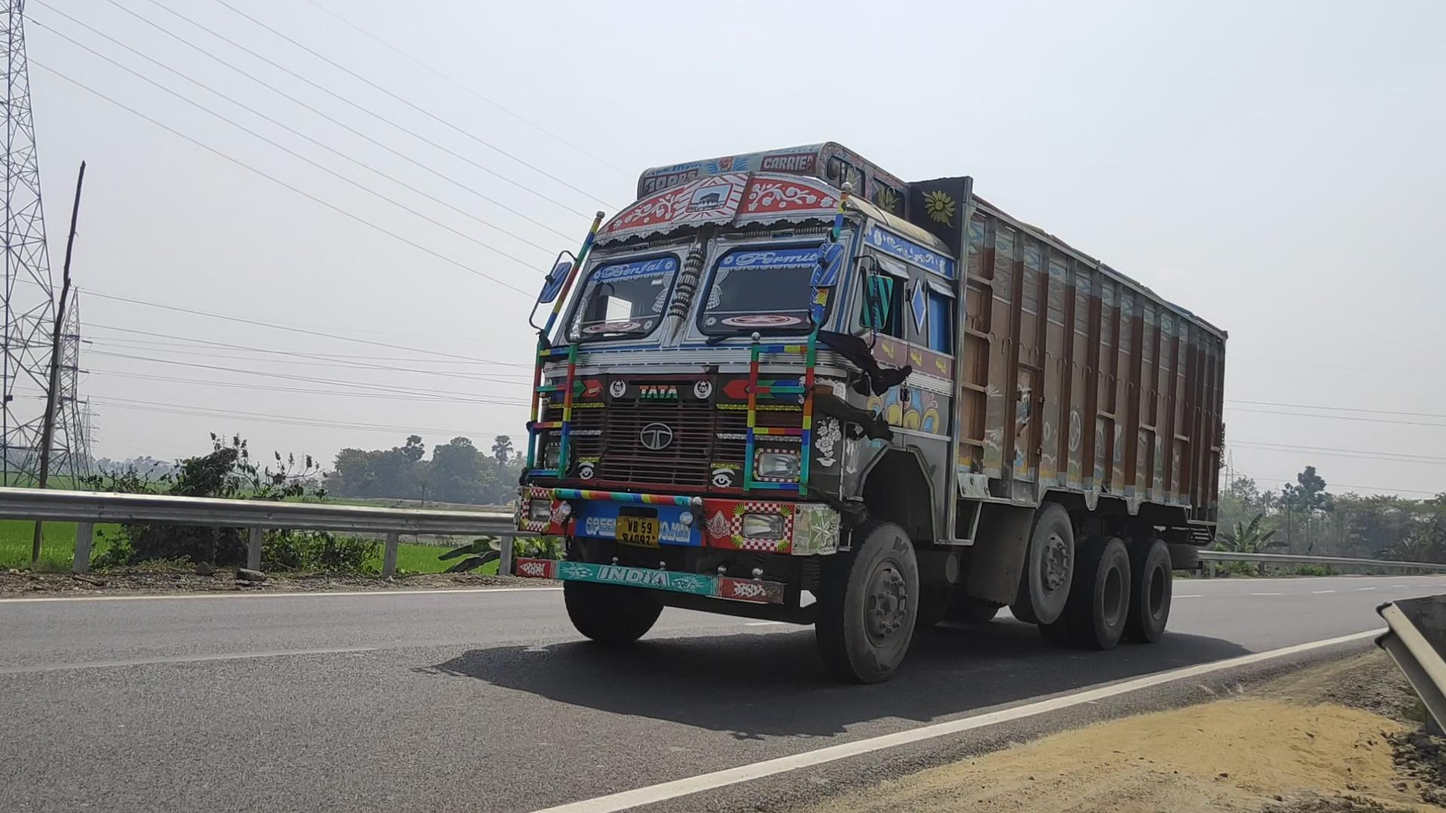truck: (516, 141, 1228, 685)
